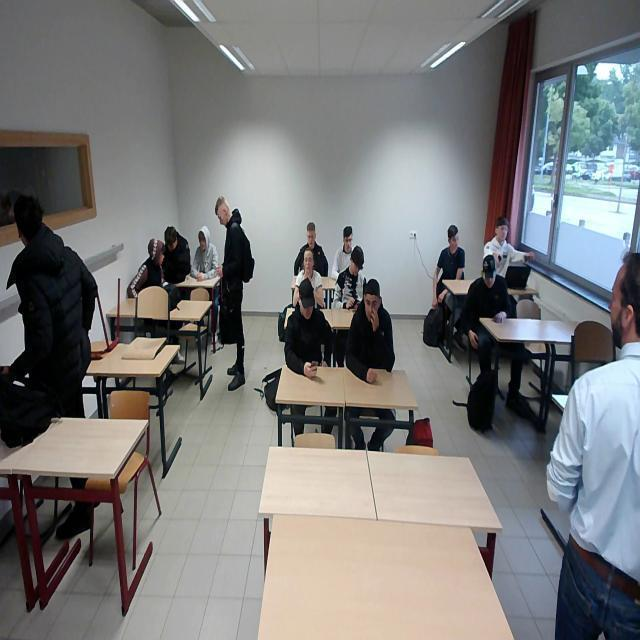Looking away: (216, 190, 240, 227), (482, 253, 502, 292), (344, 247, 368, 278), (143, 234, 162, 260), (496, 216, 512, 245), (448, 222, 462, 254), (341, 226, 355, 250), (306, 222, 316, 246)
Looking forward: (363, 282, 388, 322), (300, 247, 319, 274)
Phone use: (283, 278, 333, 382), (161, 224, 191, 279)
Turning around: (12, 186, 106, 423)
